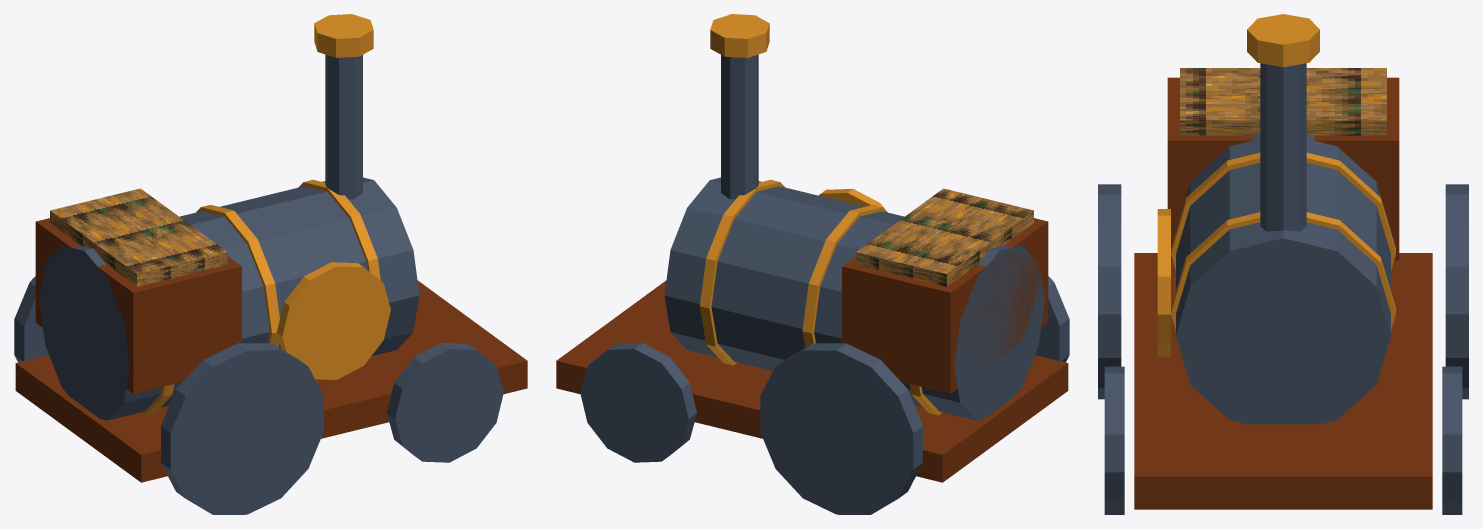
Rendered from maquina_campo.glb.
3 renders of one model, left to right at view 1: azimuth 30°, elevation 25°; view 2: azimuth 150°, elevation 25°; view 3: azimuth 270°, elevation 25°, orthographic. The views are drawn at different scales.
Visible parts, largest first — view 1: Cylinder, Cylinder.006, Cube, Cube.001, Cylinder.007, Cube.002, Cylinder.010, Cylinder.004, Cylinder.005, Cylinder.002, Cylinder.008, Cylinder.003; view 2: Cylinder, Cylinder.008, Cube.001, Cube, Cylinder.009, Cube.002, Cylinder.004, Cylinder.003, Cylinder.005, Cylinder.002, Cylinder.006, Cylinder.010; view 3: Cylinder, Cube, Cube.002, Cube.001, Cylinder.004, Cylinder.006, Cylinder.008, Cylinder.005, Cylinder.007, Cylinder.009, Cylinder.003, Cylinder.002 (+1 smaller).
Part boxes in pixels (<box>): Cylinder: <box>39,177,419,420</box>; Cylinder.006: <box>161,343,323,514</box>; Cube: <box>15,280,527,482</box>; Cube.001: <box>35,218,241,393</box>; Cylinder.007: <box>387,343,503,462</box>; Cube.002: <box>50,188,227,286</box>; Cylinder.010: <box>277,262,390,379</box>; Cylinder.004: <box>325,54,362,199</box>; Cylinder.005: <box>314,14,373,57</box>; Cylinder.002: <box>196,205,279,347</box>; Cylinder.008: <box>14,276,48,362</box>; Cylinder.003: <box>298,179,380,280</box>; Cylinder: <box>664,177,1044,420</box>; Cylinder.008: <box>760,343,922,514</box>; Cube.001: <box>842,218,1048,393</box>; Cube: <box>556,280,1068,482</box>; Cylinder.009: <box>580,343,696,462</box>; Cube.002: <box>856,188,1033,286</box>; Cylinder.004: <box>721,54,758,199</box>; Cylinder.003: <box>699,179,785,365</box>; Cylinder.005: <box>710,14,769,57</box>; Cylinder.002: <box>802,205,887,347</box>; Cylinder.006: <box>1035,276,1069,362</box>; Cylinder.010: <box>818,189,884,208</box>; Cylinder: <box>1176,133,1390,424</box>; Cube: <box>1134,253,1432,509</box>; Cube.002: <box>1180,68,1386,135</box>; Cube.001: <box>1167,77,1399,260</box>; Cylinder.004: <box>1260,63,1306,231</box>; Cylinder.006: <box>1098,184,1121,399</box>; Cylinder.008: <box>1445,184,1468,399</box>; Cylinder.005: <box>1247,14,1319,67</box>; Cylinder.007: <box>1104,366,1124,514</box>; Cylinder.009: <box>1442,366,1462,514</box>; Cylinder.003: <box>1171,212,1395,330</box>; Cylinder.002: <box>1171,152,1395,270</box>.
Bounding box in the file's own units: 3.2 × 3.08 × 2.24.
4 materials, 1 textured.
